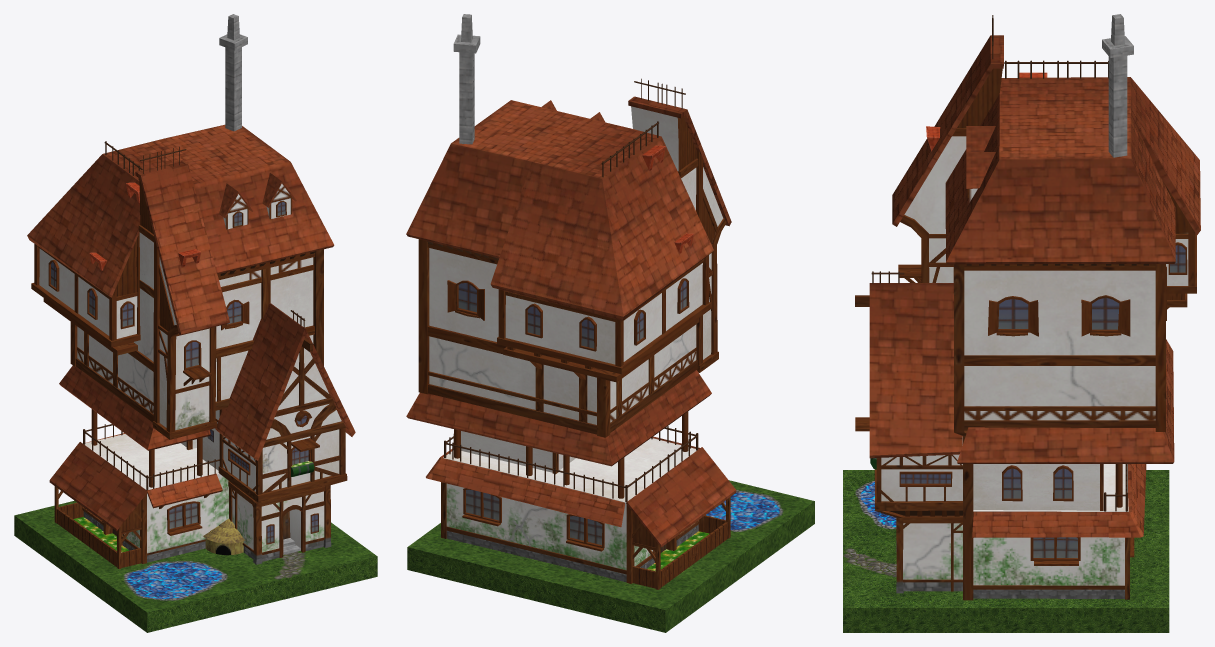
File: ountryside_house.glb
3 views of the same model, side by side, from view 1: azimuth 30°, elevation 25°; view 2: azimuth 150°, elevation 25°; view 3: azimuth 270°, elevation 25° (orthographic). The views are drawn at different scales.
Visible parts, largest first — view 1: Object_4, Object_3, Object_2; view 2: Object_4, Object_3, Object_2; view 3: Object_4, Object_3, Object_2.
Boxes of the visible parts, x1,y1,x2,y2 form: Object_4: (27,14,355,568); Object_3: (51,124,339,564); Object_2: (14,500,377,632); Object_4: (406,14,736,589); Object_3: (429,78,726,582); Object_2: (407,480,814,632); Object_4: (855,14,1200,600); Object_3: (870,15,1185,598); Object_2: (843,470,1169,632).
Size of the model in its own units: 24.57 by 49.24 by 26.73.
2 materials, 2 textured.
